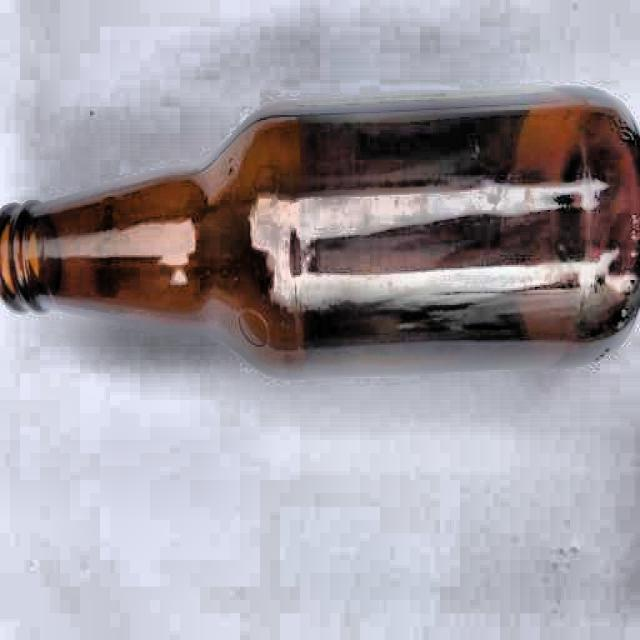glass: (12, 83, 640, 390)
